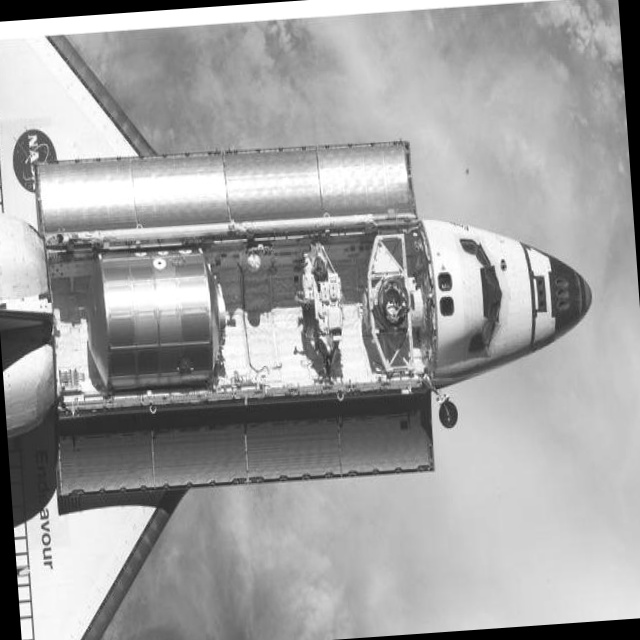medium_debris: (0, 39, 603, 496)
